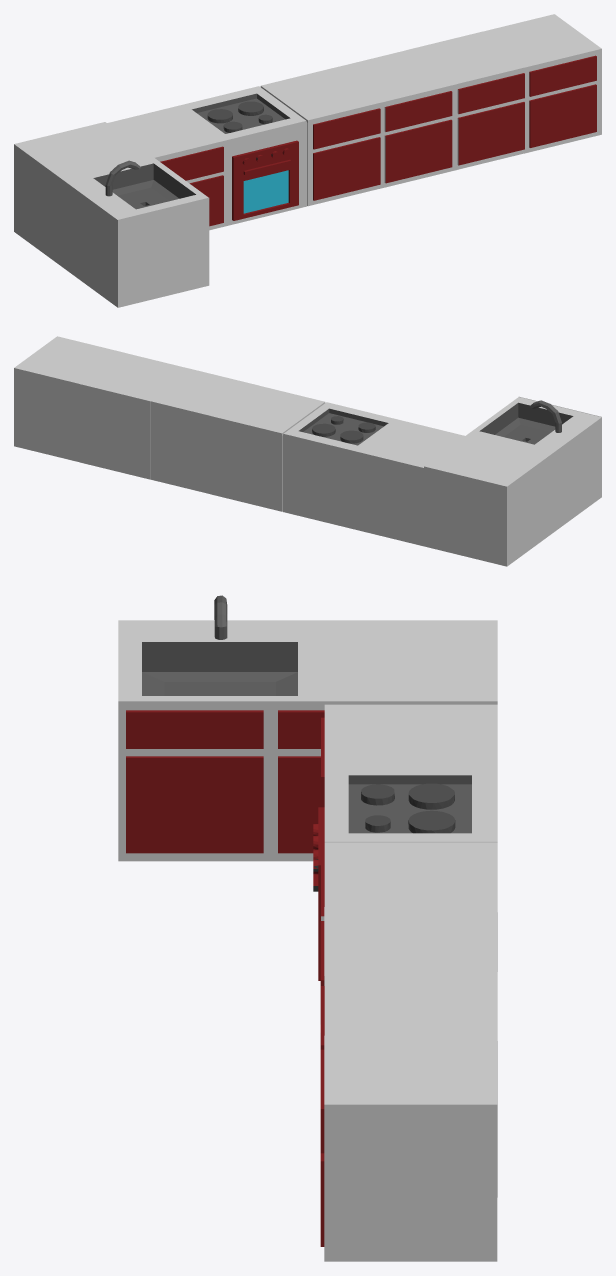
3 views of the same model, one above another, from view 1: azimuth 30°, elevation 25°; view 2: azimuth 150°, elevation 25°; view 3: azimuth 270°, elevation 25° (orthographic). The views are drawn at different scales.
Visible parts, largest first — view 1: origin, door, oven_door, water_bottom, even_window, gas_bottom, gas_oven; view 2: origin, water_bottom, gas_bottom, gas_oven, water; view 3: origin, door, water_bottom, gas_bottom, gas_oven, oven_door.
Part boxes in pixels (x1,y1,x2,y2): origin: (14, 14, 601, 307); door: (160, 55, 596, 226); oven_door: (232, 140, 298, 220); water_bottom: (93, 163, 195, 209); even_window: (243, 170, 288, 213); gas_bottom: (192, 93, 290, 133); gas_oven: (207, 101, 272, 132); origin: (14, 336, 601, 566); water_bottom: (479, 402, 573, 444); gas_bottom: (299, 408, 388, 445); gas_oven: (312, 416, 375, 443); water: (530, 400, 561, 432); origin: (118, 620, 497, 1261); door: (126, 710, 324, 1246); water_bottom: (142, 642, 297, 695); gas_bottom: (348, 775, 471, 833); gas_oven: (361, 783, 455, 833); oven_door: (313, 807, 324, 980).
Size of the model in its own units: 90 by 30 by 18.59.
